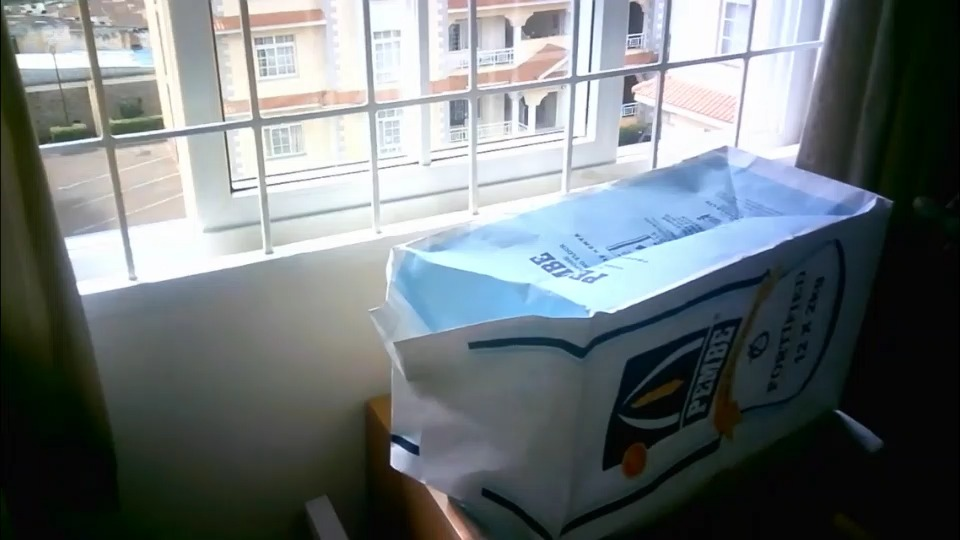wheat_flour_blue_label: (372, 145, 895, 537)
